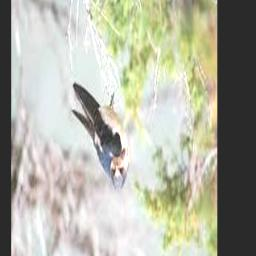Swallow: (71, 85, 129, 191)
